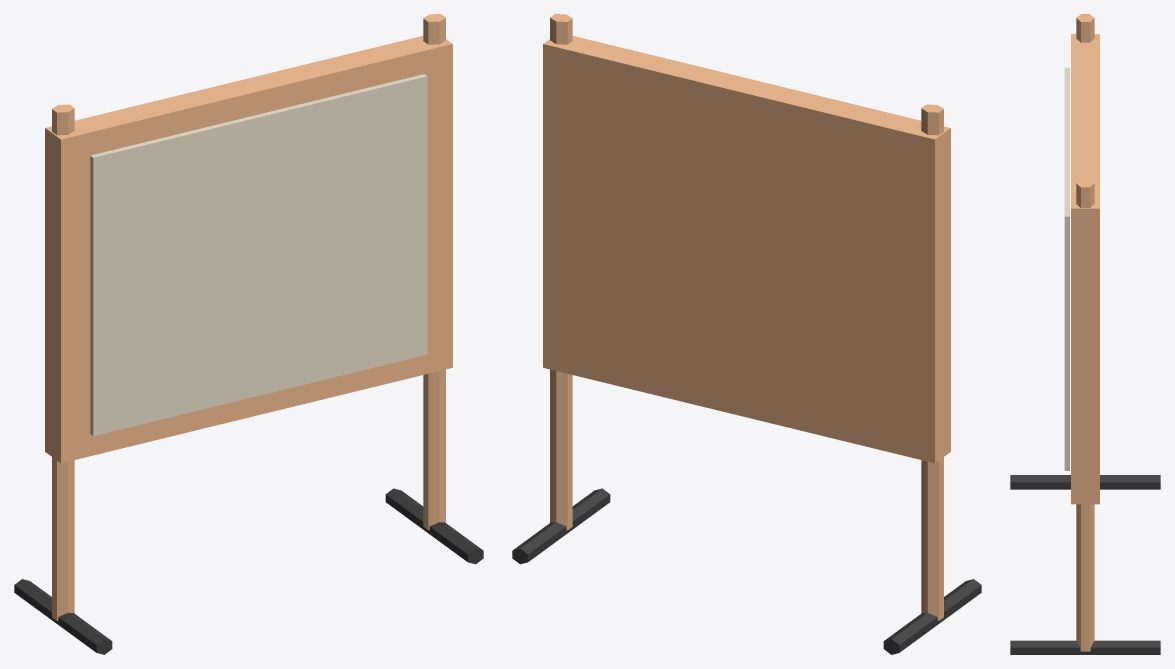
3 renders of one model, left to right at view 1: azimuth 30°, elevation 25°; view 2: azimuth 150°, elevation 25°; view 3: azimuth 270°, elevation 25°, orthographic. The views are drawn at different scales.
Visible parts, largest first — view 1: Art surface, Frame, Support, Support.001, Foot.001, Foot; view 2: Frame, Support, Support.001, Foot.001, Foot; view 3: Frame, Support.001, Art surface, Foot.001, Foot, Support.
Boxes of the visible parts, x1,y1,x2,y2 form: Art surface: (90,74,427,435); Frame: (45,36,452,463); Support: (52,104,74,620); Support.001: (423,14,445,530); Foot.001: (385,488,483,564); Foot: (14,579,112,654); Frame: (543,36,950,463); Support: (921,104,943,620); Support.001: (550,14,572,530); Foot.001: (512,488,610,564); Foot: (883,579,981,654); Frame: (1071,34,1099,504); Support.001: (1076,179,1094,651); Art surface: (1064,67,1069,470); Foot.001: (1010,640,1160,654); Foot: (1010,475,1160,489); Support: (1076,14,1094,42).
Size of the model in its own units: 1.14 by 1.44 by 0.414.
Materials: 1 (1 with a texture image).
